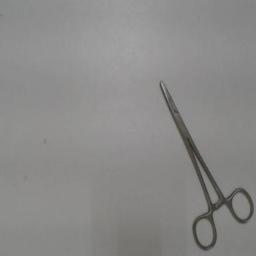Mayo Needle Holder: (154, 72, 256, 252)
